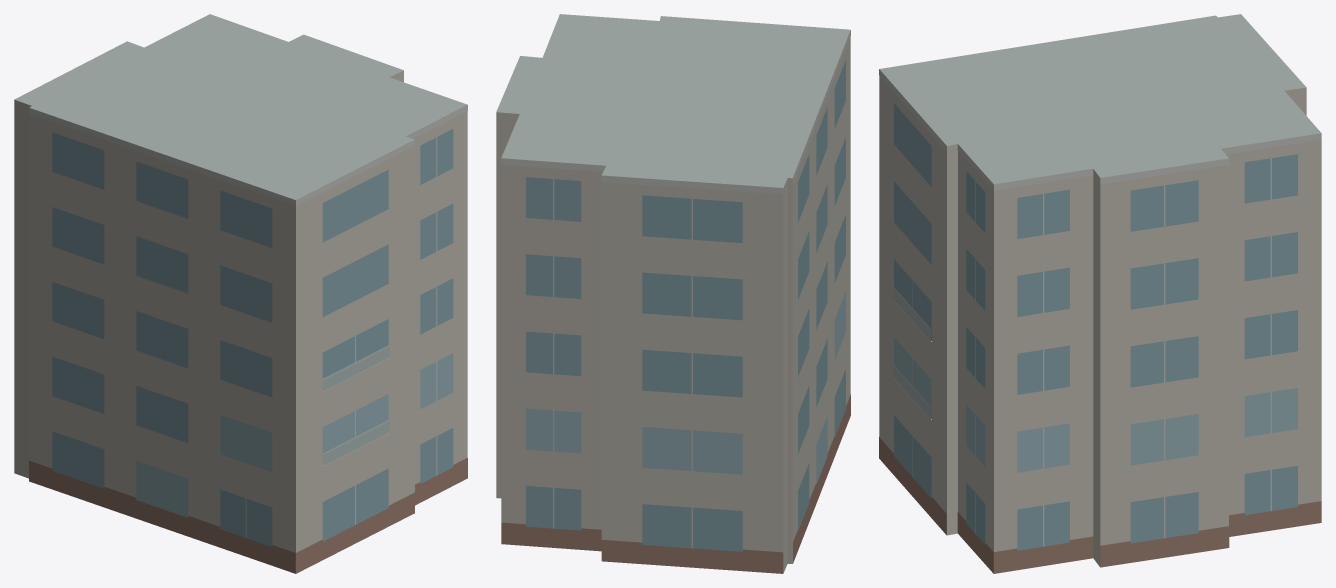
File: survey-upis-32722166.glb
3 views of the same model, side by side, from view 1: azimuth 30°, elevation 25°; view 2: azimuth 150°, elevation 25°; view 3: azimuth 270°, elevation 25° (orthographic). The views are drawn at different scales.
Parts seen in each view (by area): view 1: survey-upis-32722166.tmp; view 2: survey-upis-32722166.tmp; view 3: survey-upis-32722166.tmp.
Part boxes in pixels (x1,y1,x2,y2): survey-upis-32722166.tmp: [14, 14, 467, 573]; survey-upis-32722166.tmp: [496, 14, 850, 573]; survey-upis-32722166.tmp: [879, 14, 1321, 573].
Bounding box in the file's own units: 13.8 × 14.7 × 15.14.
